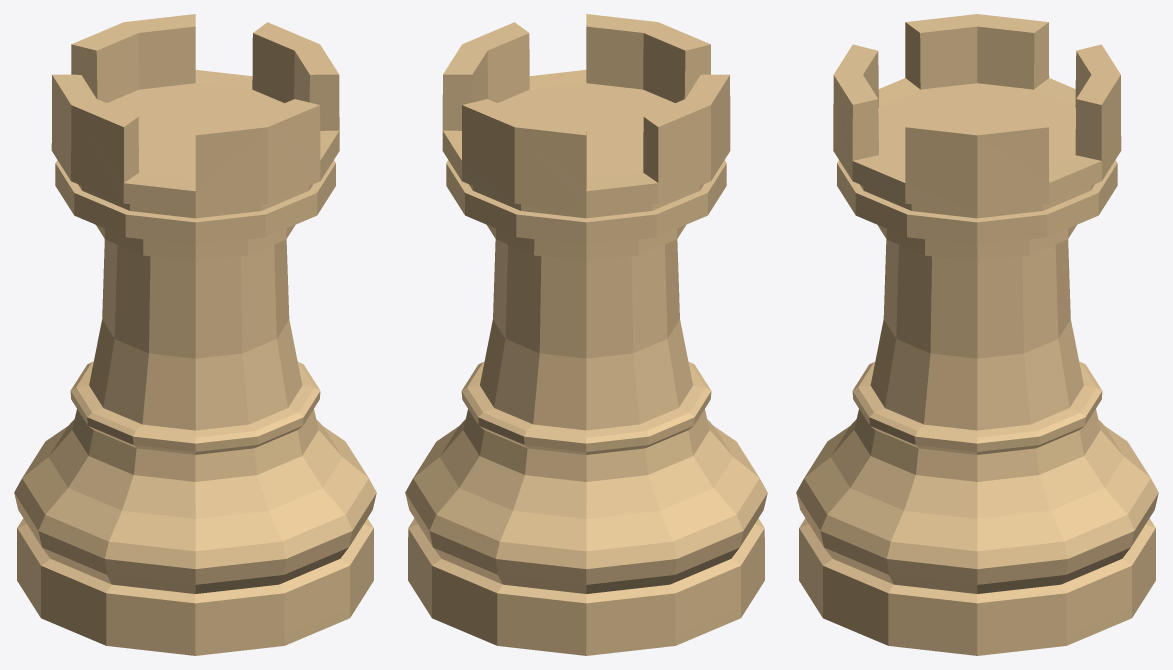
File: white_rook.gltf
3 views of the same model, side by side, from view 1: azimuth 30°, elevation 25°; view 2: azimuth 150°, elevation 25°; view 3: azimuth 270°, elevation 25° (orthographic).
Visible parts, largest first — view 1: ChessPieceRook1; view 2: ChessPieceRook1; view 3: ChessPieceRook1.
Boxes of the visible parts, bbox=[...] form: ChessPieceRook1: bbox=[14, 14, 376, 655]; ChessPieceRook1: bbox=[405, 14, 767, 655]; ChessPieceRook1: bbox=[796, 14, 1158, 655].
Bounding box in the file's own units: 13.5 × 20.77 × 13.5.
